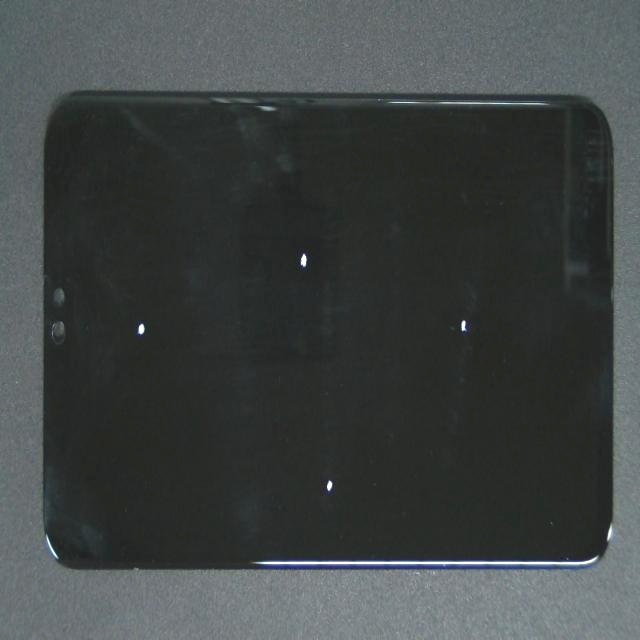stain: (187, 252, 519, 640), (238, 148, 640, 468), (153, 100, 436, 378), (73, 142, 196, 486)
